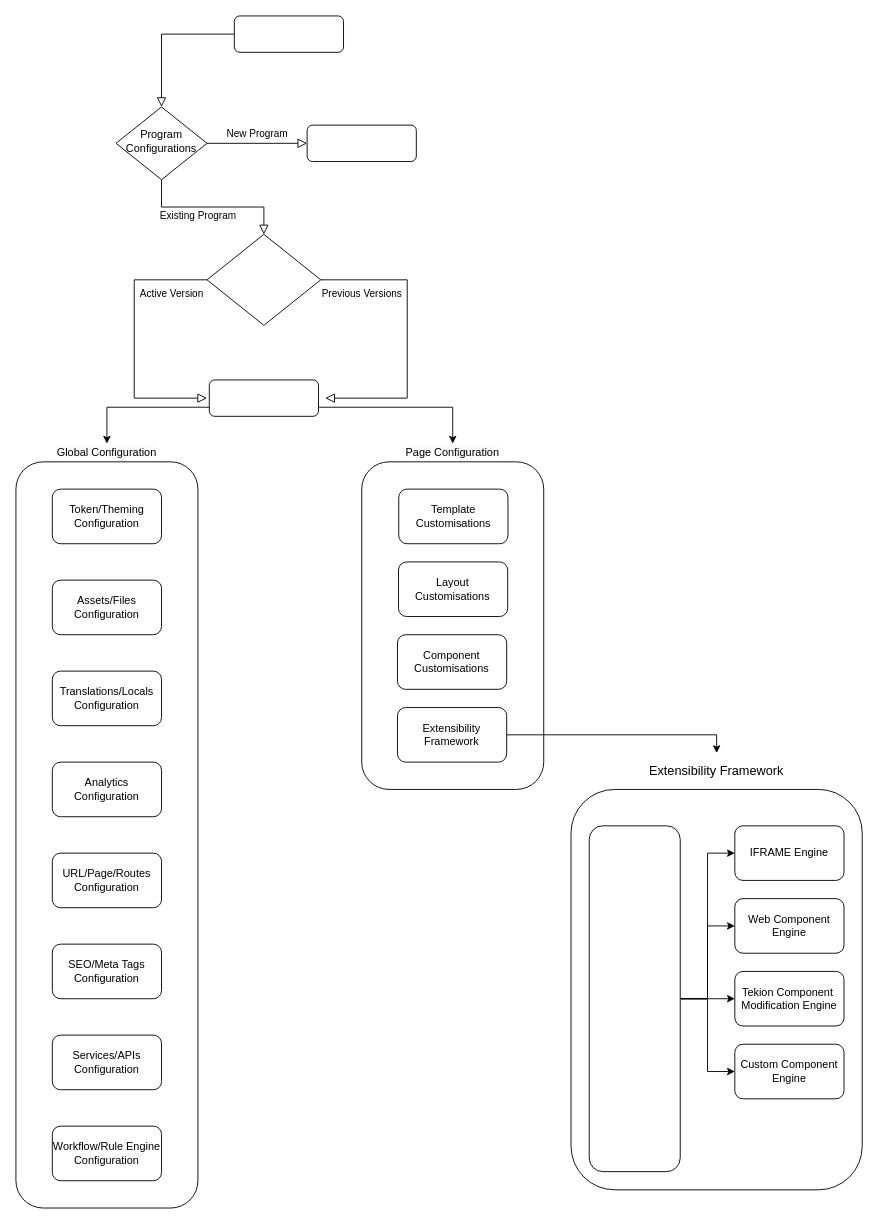
The diagram is 878 pixels wide and 1224 high, and some of its shapes have lost their labels. Each missing label, with the centre of its shape:
AEC Builder: pixel 263 397
AEC STUDIO: pixel 288 33
Configurations: pixel 634 998
Create Program Definition: pixel 361 143
Select/Create Version: pixel 263 279
